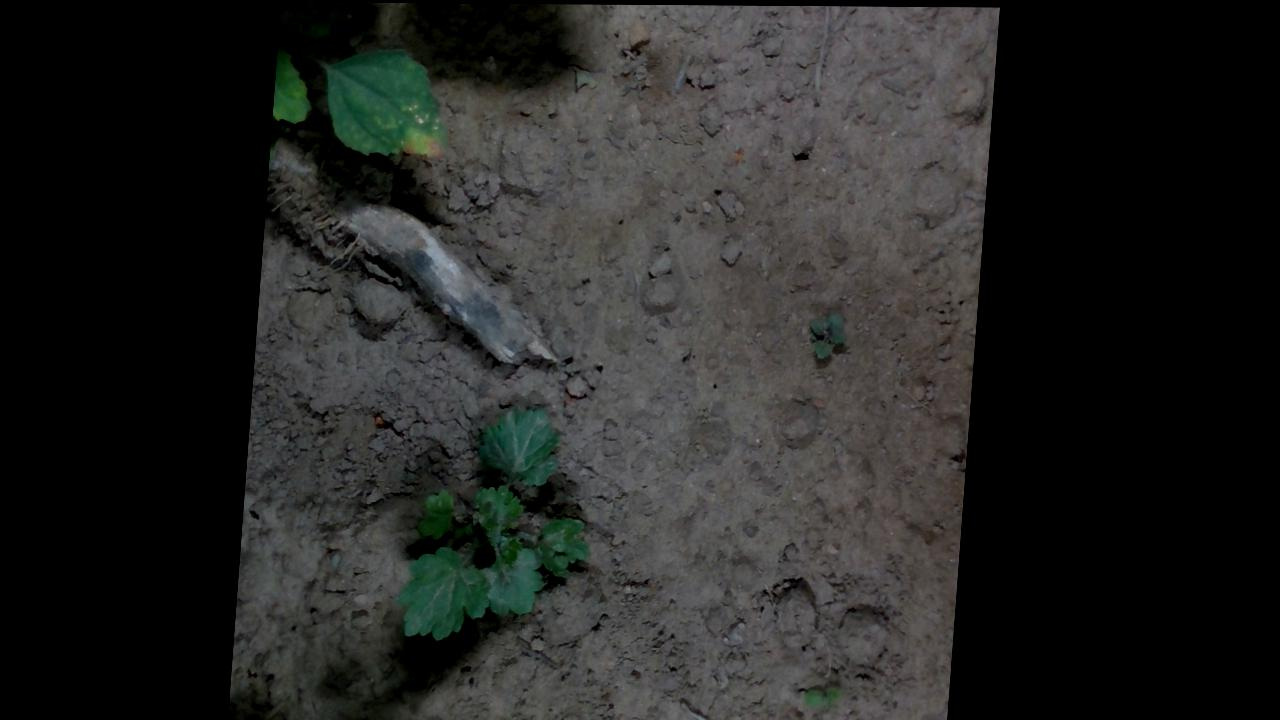weed: (808, 306, 856, 360), (811, 679, 857, 707)
